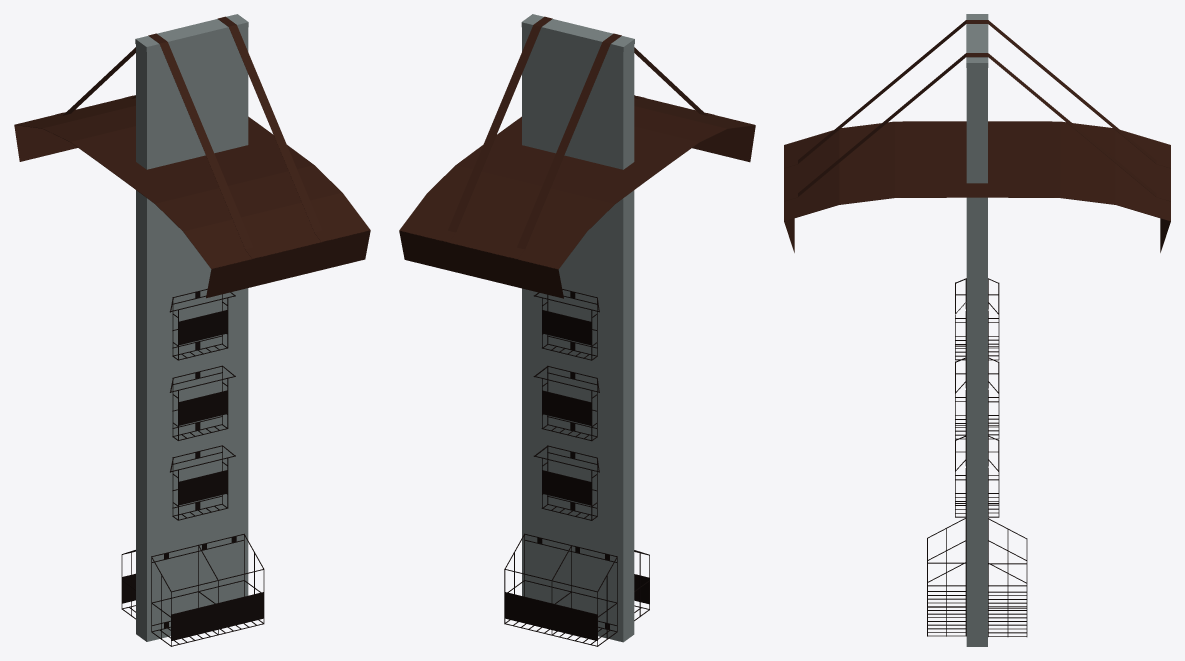
Rendered from Magazine_Rack 1.fbx.
3 views of the same model, side by side, from view 1: azimuth 30°, elevation 25°; view 2: azimuth 150°, elevation 25°; view 3: azimuth 270°, elevation 25° (orthographic).
Parts seen in each view (by area): view 1: magazine_rack; view 2: magazine_rack; view 3: magazine_rack.
Part boxes in pixels (<box>): magazine_rack: <box>14,14,370,646</box>; magazine_rack: <box>399,14,755,646</box>; magazine_rack: <box>784,14,1170,646</box>.
Bounding box in the file's own units: 70 × 250 × 150.
